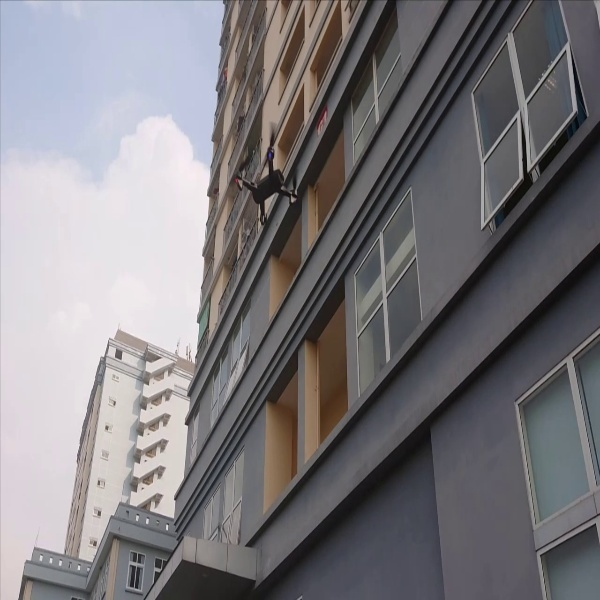drone: (225, 123, 310, 222)
